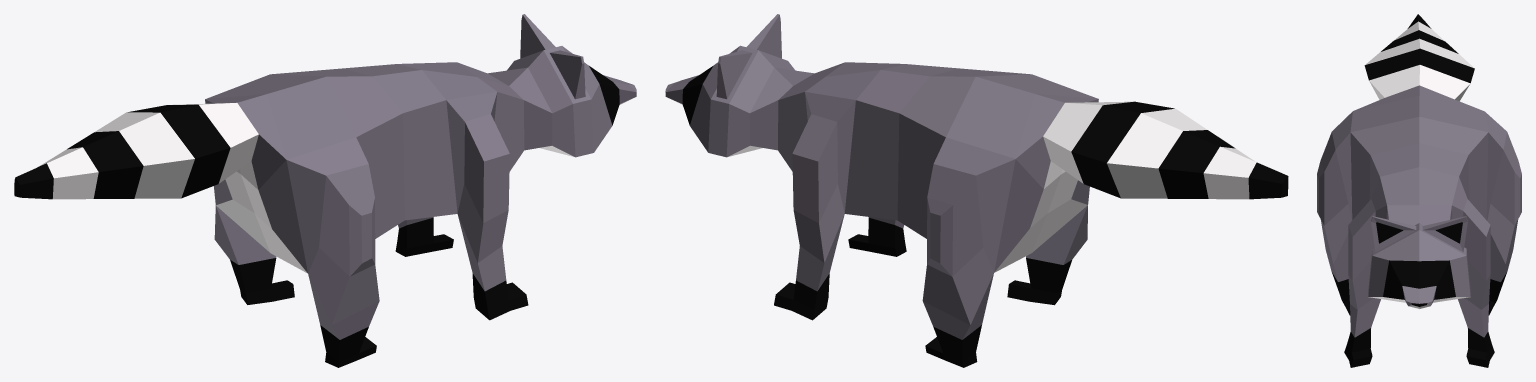
Rendered from raccoon.fbx.
3 renders of one model, left to right at view 1: azimuth 30°, elevation 25°; view 2: azimuth 150°, elevation 25°; view 3: azimuth 270°, elevation 25°, orthographic. The views are drawn at different scales.
Visible parts, largest first — view 1: Cube; view 2: Cube; view 3: Cube.
Boxes of the visible parts, x1,y1,x2,y2 form: Cube: (14, 14, 636, 367); Cube: (665, 14, 1288, 367); Cube: (1317, 14, 1521, 367).
Size of the model in its own units: 220 by 85.15 by 78.57.
Materials: 3 (1 with a texture image).
